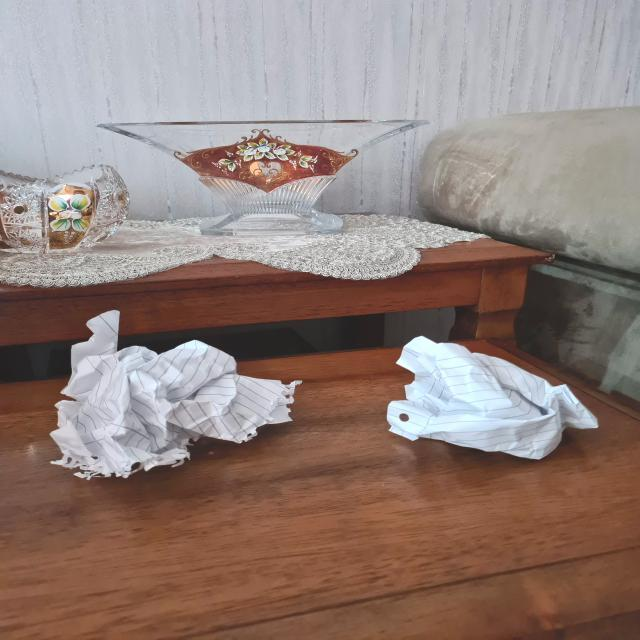Paper: (52, 303, 280, 480), (384, 332, 586, 456)
